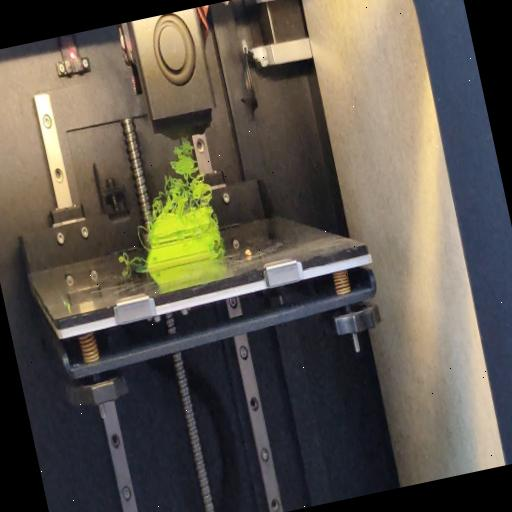spaghetti: (138, 130, 212, 217), (115, 246, 148, 268), (135, 221, 153, 255), (212, 241, 226, 261)
